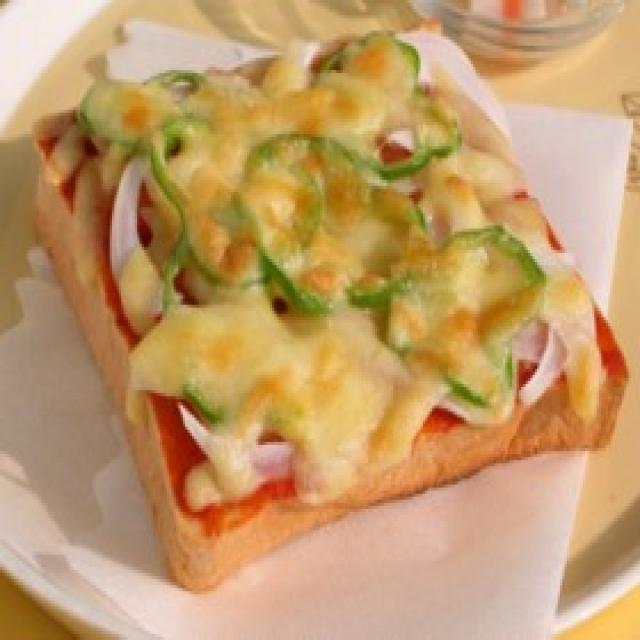面包点心: (25, 55, 626, 570)
